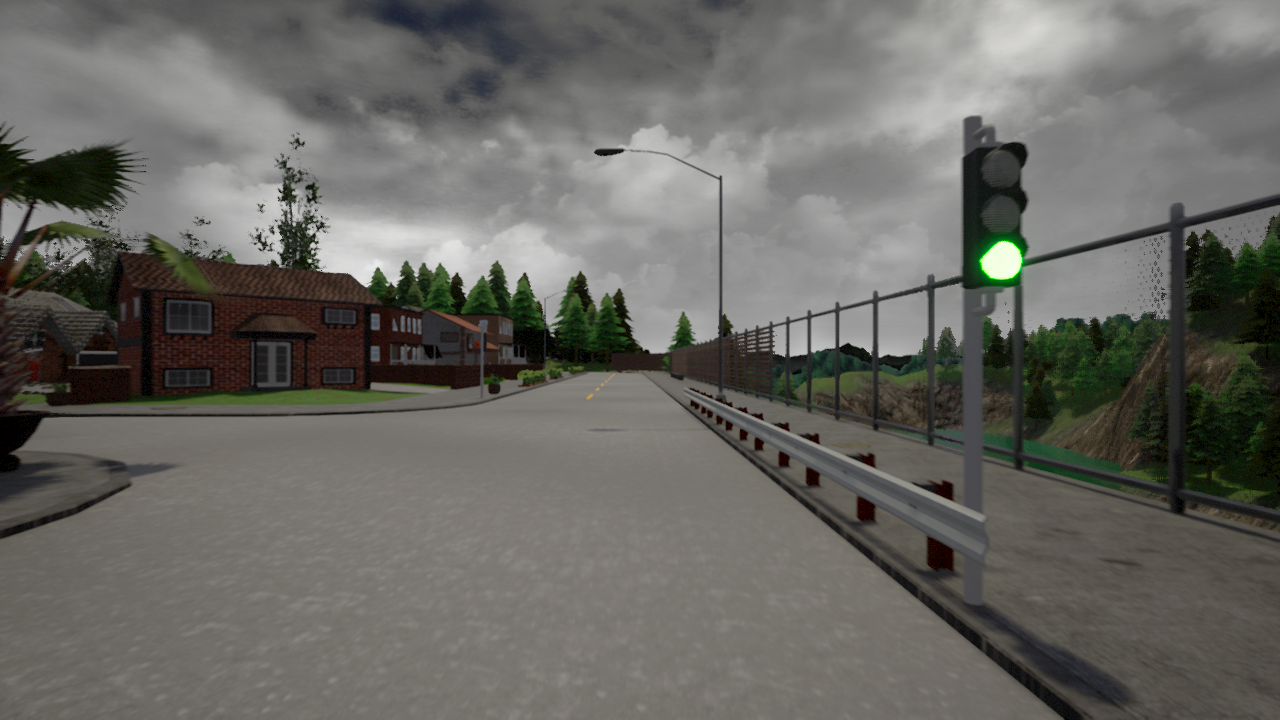green: (964, 140, 1033, 293)
